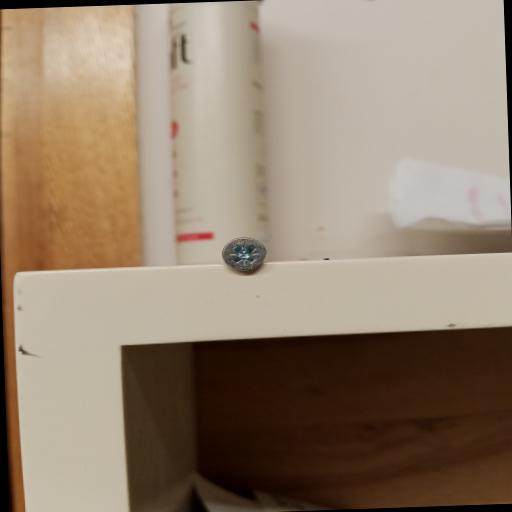Pozidriv: (216, 233, 273, 276)
